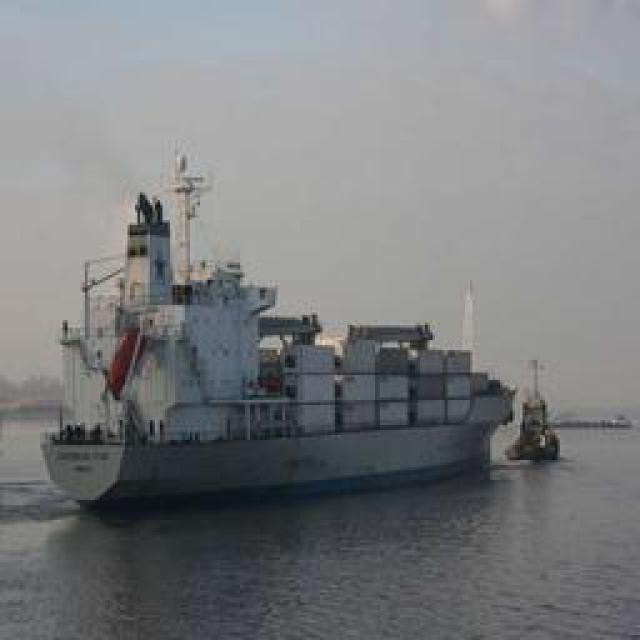Ship: (40, 172, 513, 510)
